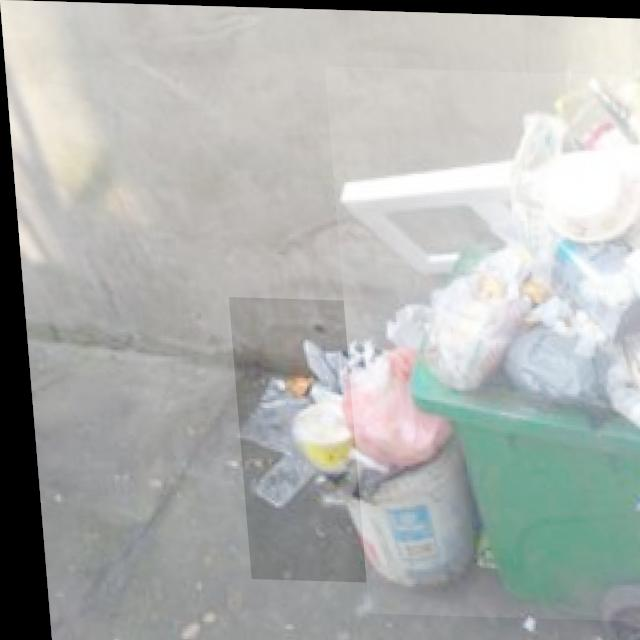overflow: (324, 64, 640, 619), (224, 296, 472, 583)
